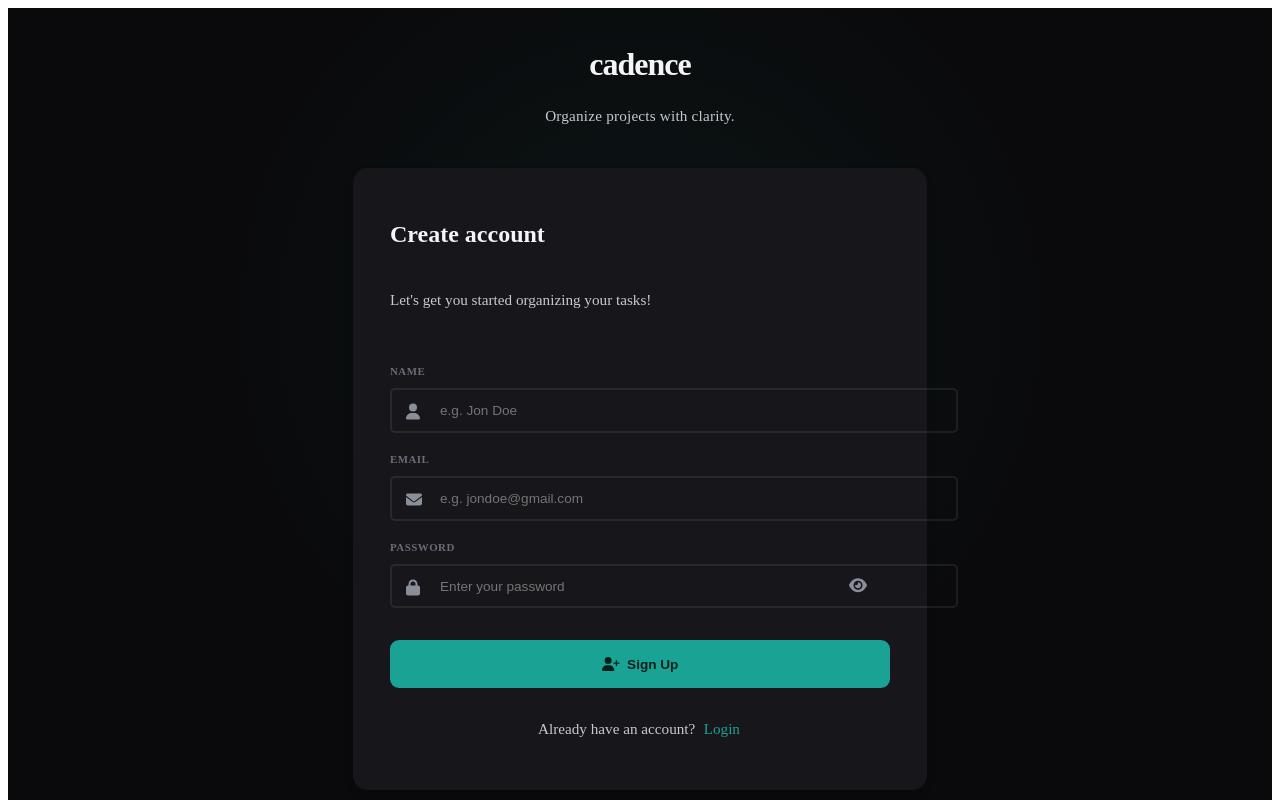
Test: Register page › rejects a password shorter than 8 characters
Type "Jon Doe" into the field labelled "Name" at x=674, y=411, box [390,388,958,433]
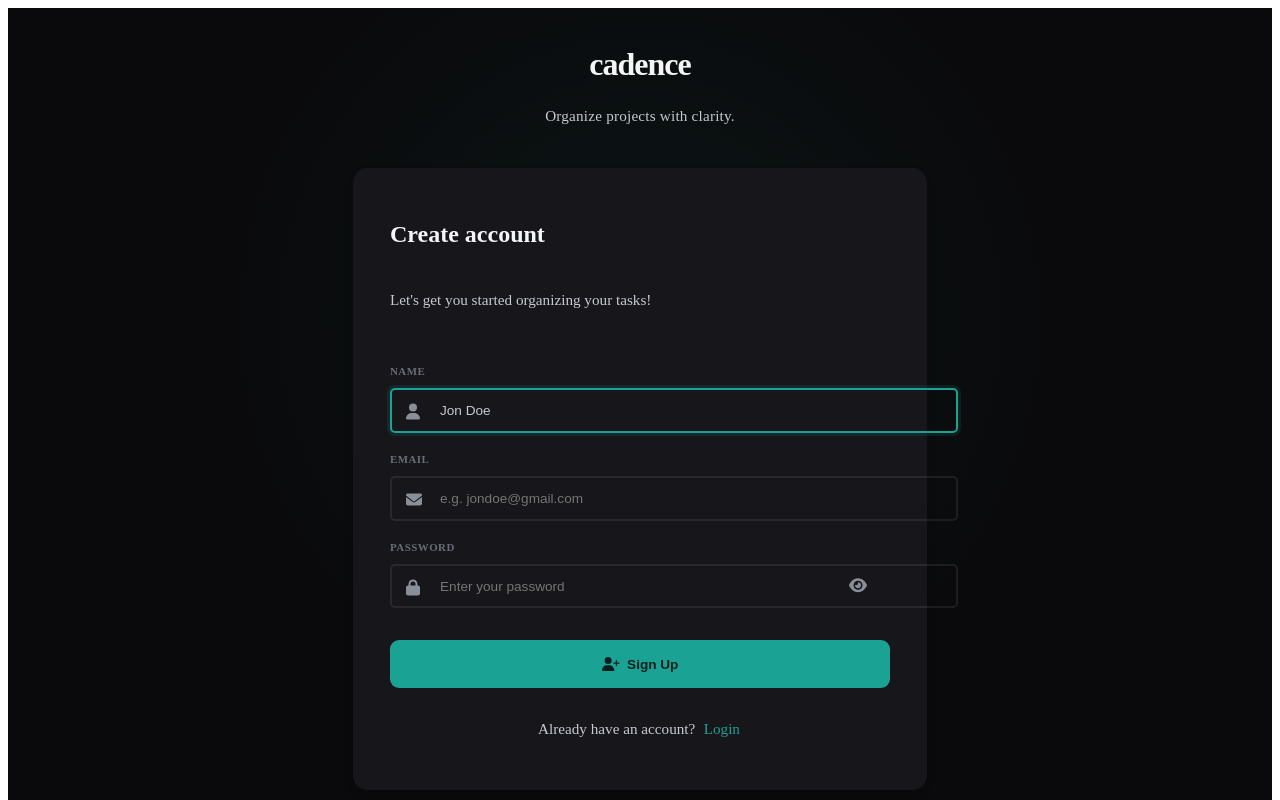
Type "jon@doe.com" into the field labelled "Email" at x=674, y=498, box [390,476,958,521]
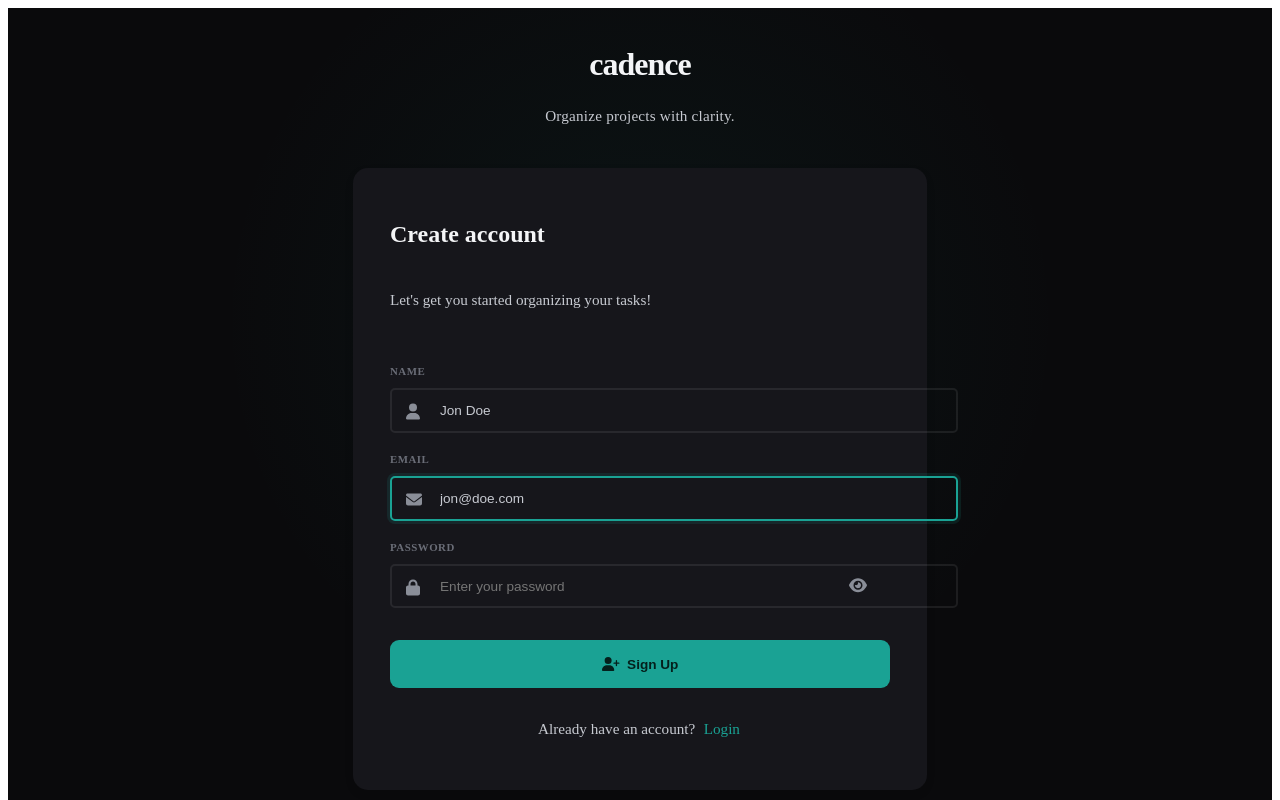
Type "Aa1" into the password field labelled "Password" at x=674, y=586, box [390,564,958,608]
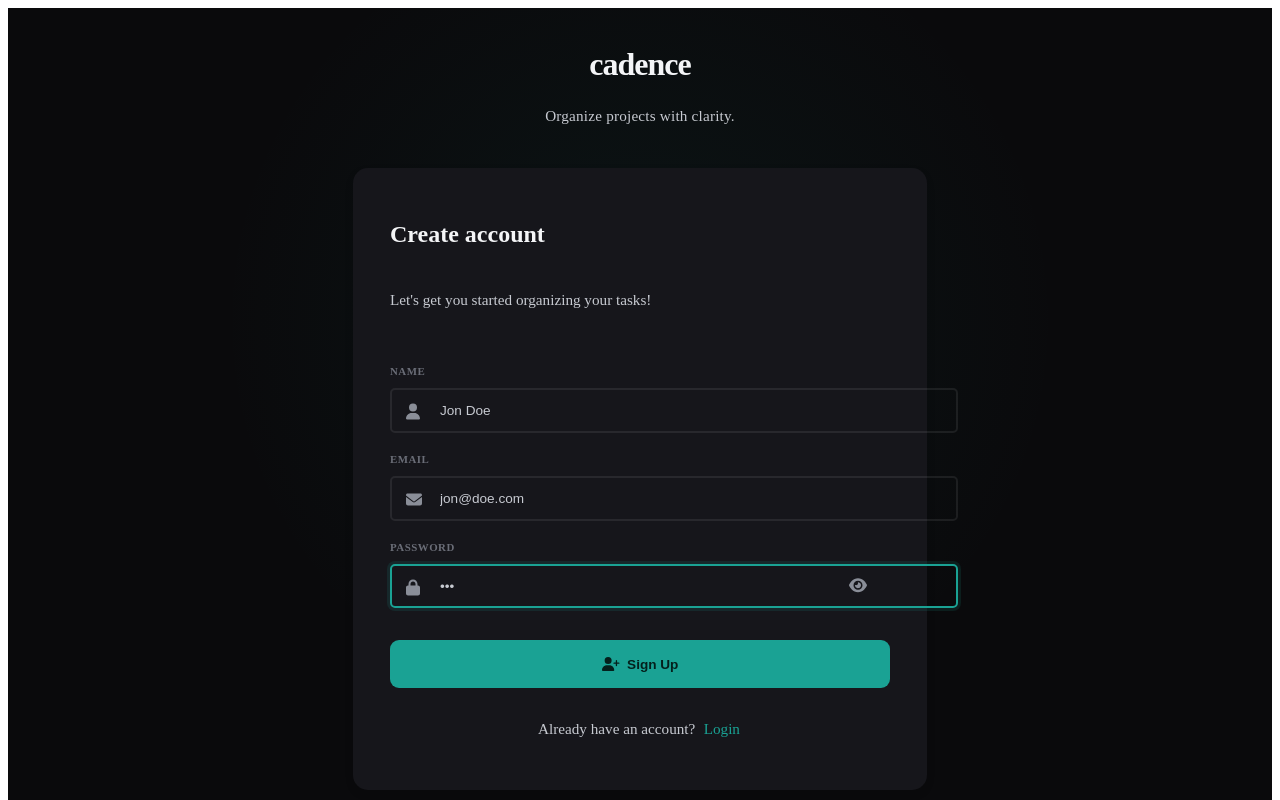
Click the button "Sign Up" at x=640, y=664, box [390,640,890,688]
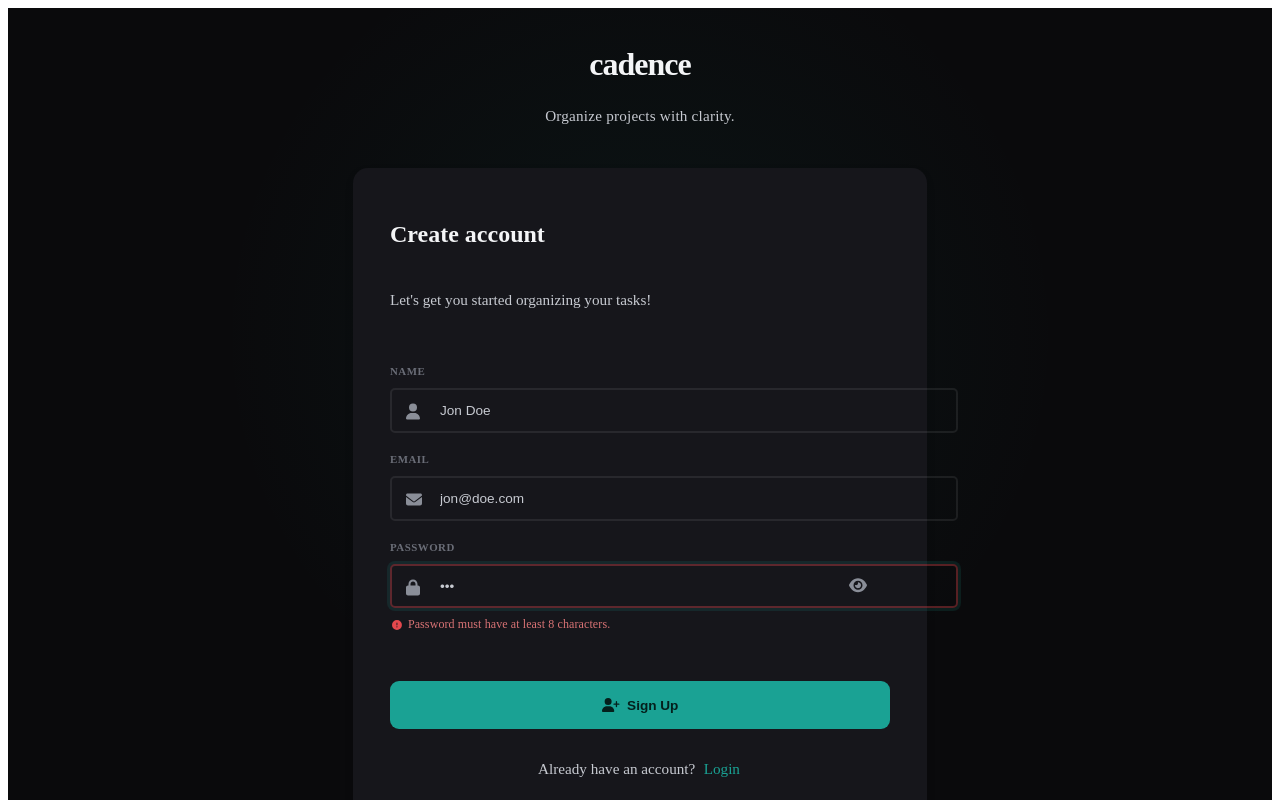
Check: the text "Password must have at least 8 characters." is shown, box [408,616,610,633]
